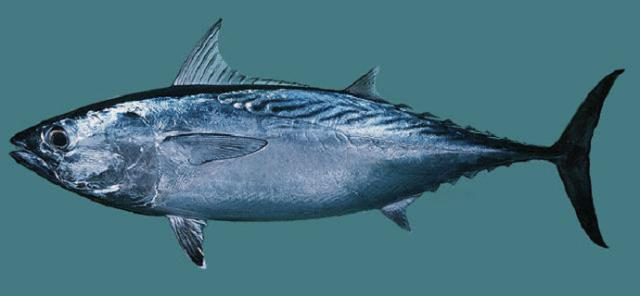Mulut: (4, 124, 34, 184)
Sirip Anal: (377, 195, 425, 235)
Sirip Dada: (158, 122, 270, 170)
Sirip Ekor: (554, 60, 624, 258)
Sirip Perut: (166, 208, 216, 272)
Sirip Punggung: (172, 11, 430, 112)
